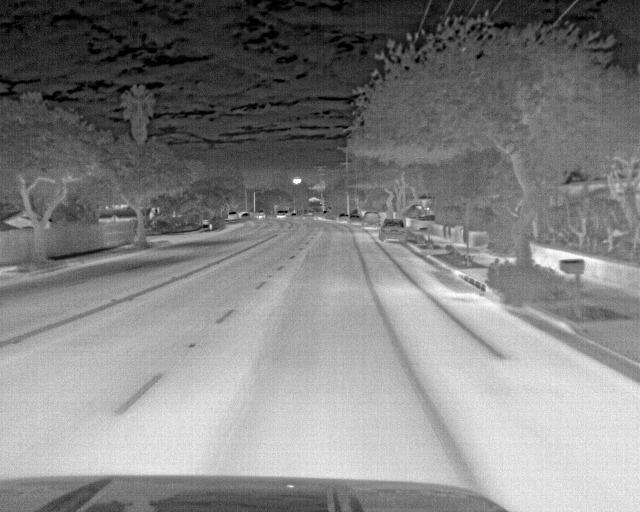car: (378, 217, 409, 243), (362, 210, 384, 228), (348, 212, 364, 226), (335, 212, 351, 225), (275, 209, 292, 221), (253, 208, 268, 221), (226, 210, 240, 223)
